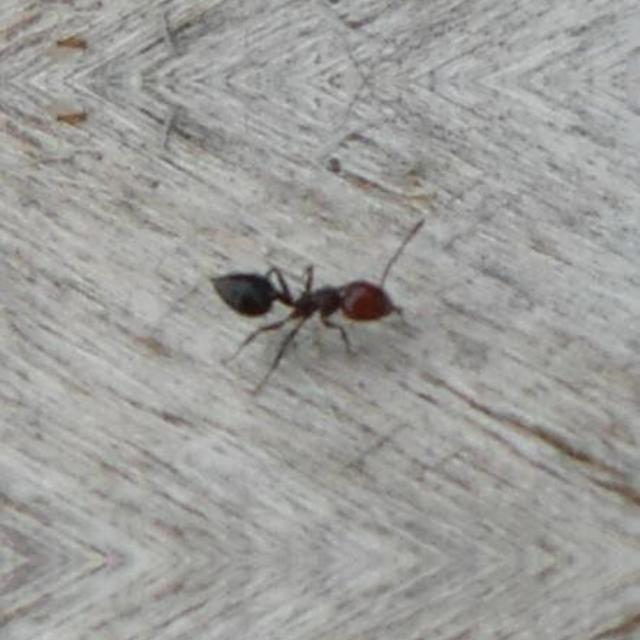Crematogaster: (228, 238, 396, 342)
